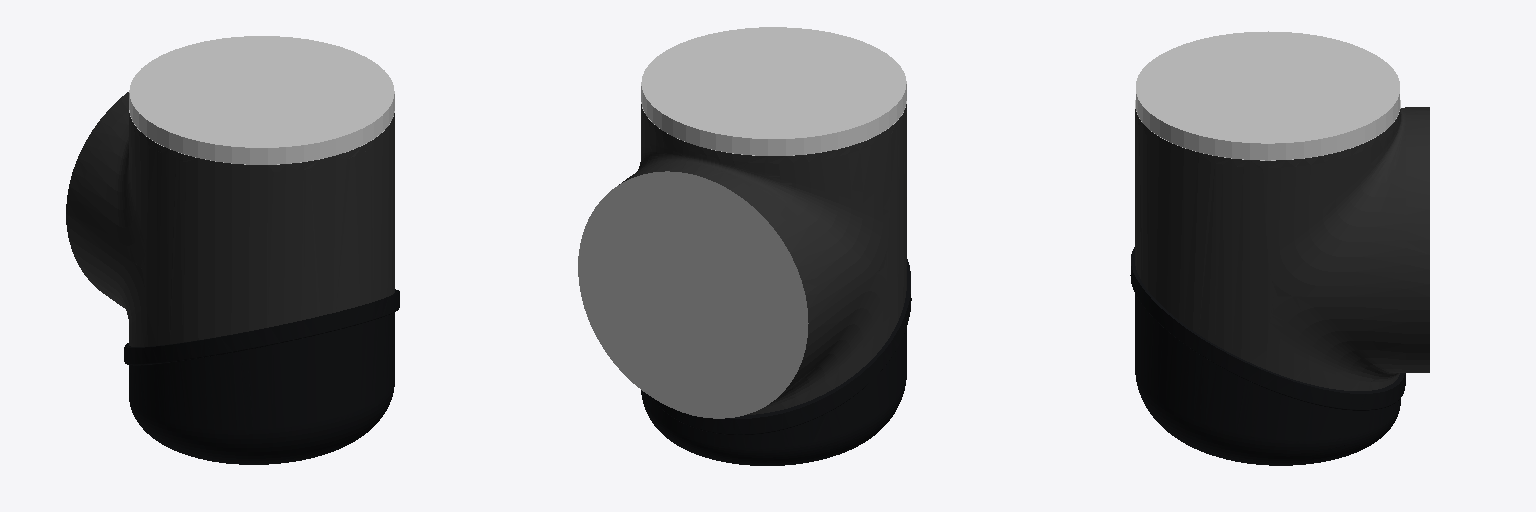
Rendered from wrist2.obj.
The picture shows the model from 3 angles: view 1: azimuth 30°, elevation 25°; view 2: azimuth 150°, elevation 25°; view 3: azimuth 270°, elevation 25°; orthographic projection.
Parts seen in each view (by area): view 1: verbindung_002.001, blau_002.001, Scheibe_002.001; view 2: Scheibe_002.001, verbindung_002.001, blau_002.001; view 3: verbindung_002.001, Scheibe_002.001, blau_002.001.
Part boxes in pixels (x1,y1,x2,y2): verbindung_002.001: (66, 92, 394, 346); blau_002.001: (124, 289, 399, 464); Scheibe_002.001: (129, 36, 394, 164); Scheibe_002.001: (578, 27, 906, 418); verbindung_002.001: (619, 104, 906, 414); blau_002.001: (641, 259, 911, 465); verbindung_002.001: (1135, 107, 1429, 390); Scheibe_002.001: (1135, 31, 1400, 160); blau_002.001: (1130, 247, 1405, 465).
Bounding box in the file's own units: 0.0775 × 0.1047 × 0.0842.